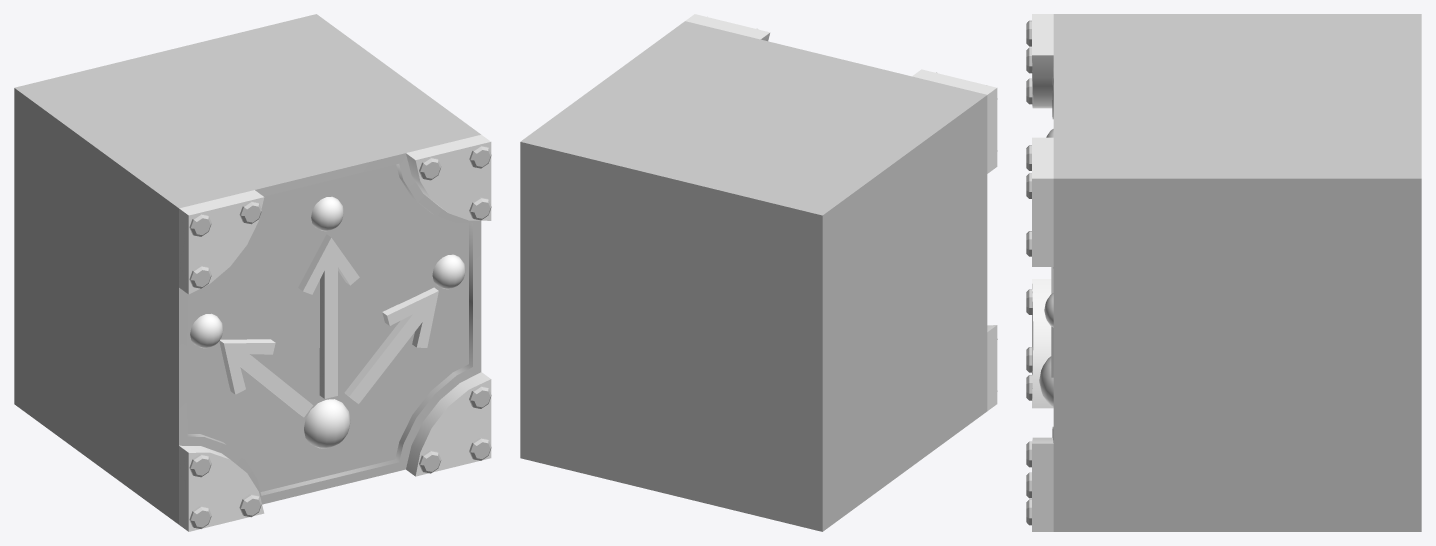
File: PlusThree.fbx
3 views of the same model, side by side, from view 1: azimuth 30°, elevation 25°; view 2: azimuth 150°, elevation 25°; view 3: azimuth 270°, elevation 25° (orthographic). The views are drawn at different scales.
Visible parts, largest first — view 1: Block.001; view 2: Block.001; view 3: Block.001.
Boxes of the visible parts, x1,y1,x2,y2 form: Block.001: (14, 14, 491, 531); Block.001: (520, 14, 997, 531); Block.001: (1026, 14, 1421, 531).
Bounding box in the file's own units: 1 × 1 × 1.01.
